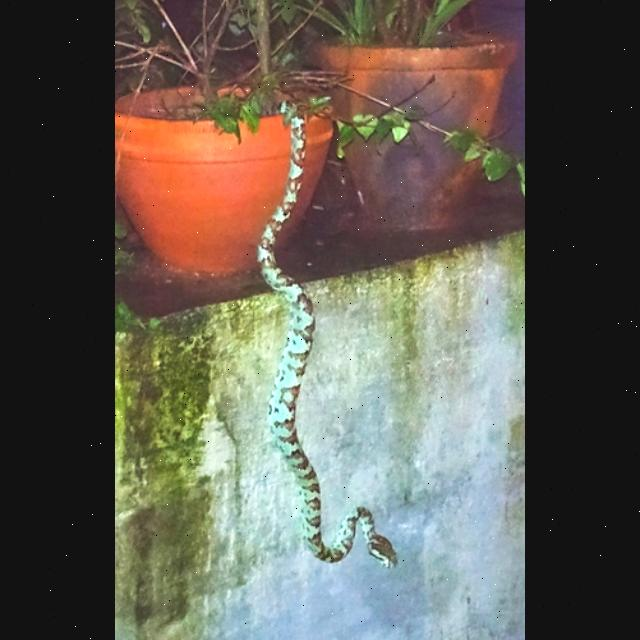snake: (270, 96, 402, 568)
